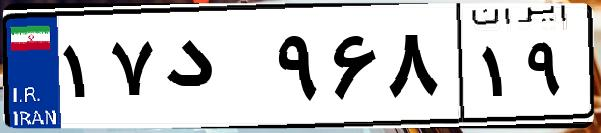1: (57, 26, 110, 100), (475, 38, 525, 113)
6: (330, 28, 385, 110)
7: (110, 28, 158, 98)
8: (385, 28, 445, 110)
9: (270, 28, 330, 110), (525, 38, 570, 115)
د: (158, 20, 270, 120)
